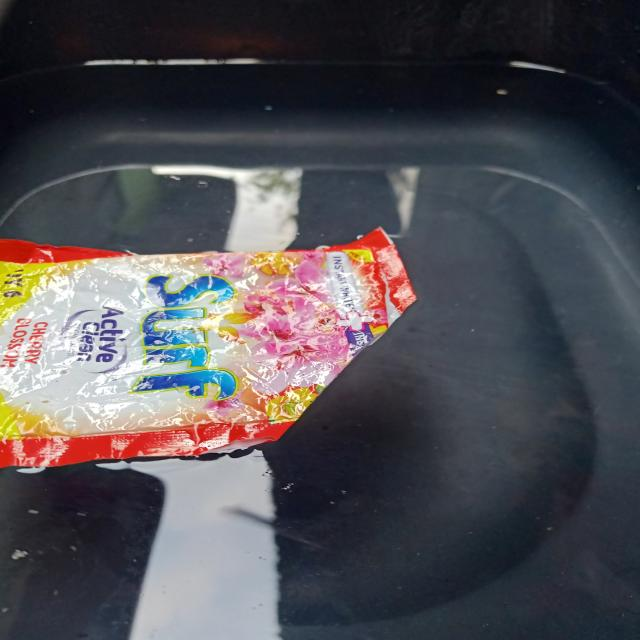Plastic Wrapper: (0, 215, 427, 482)
